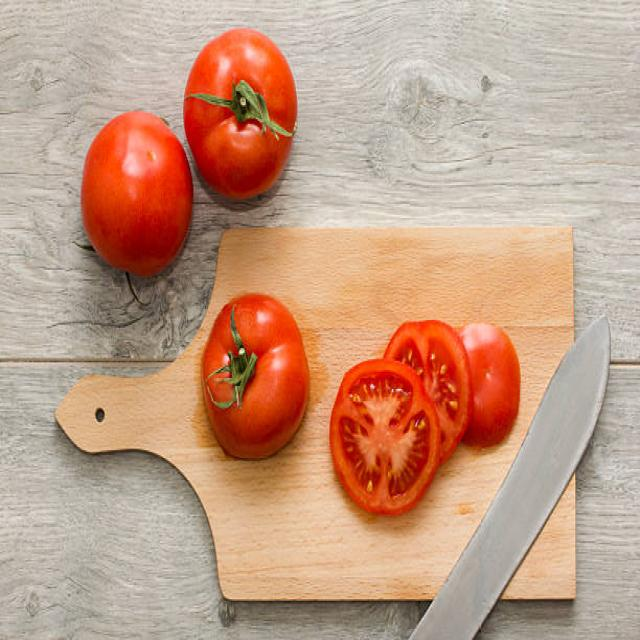Tomato: (329, 352, 436, 518)
